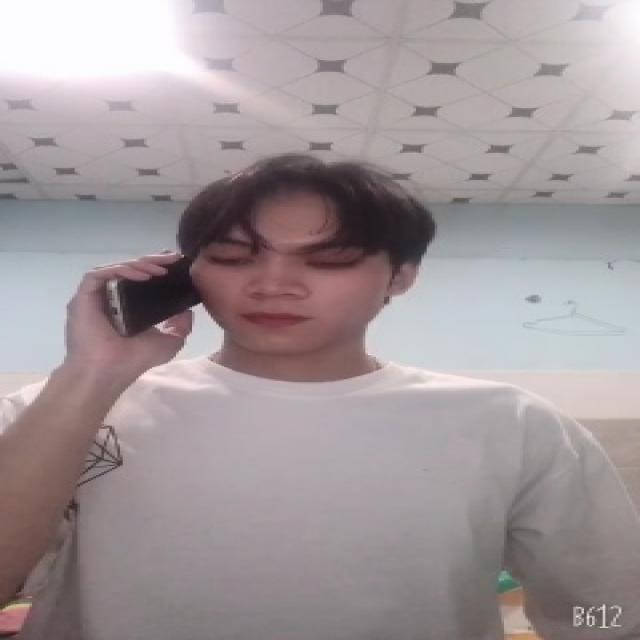Phone: (96, 256, 206, 341)
